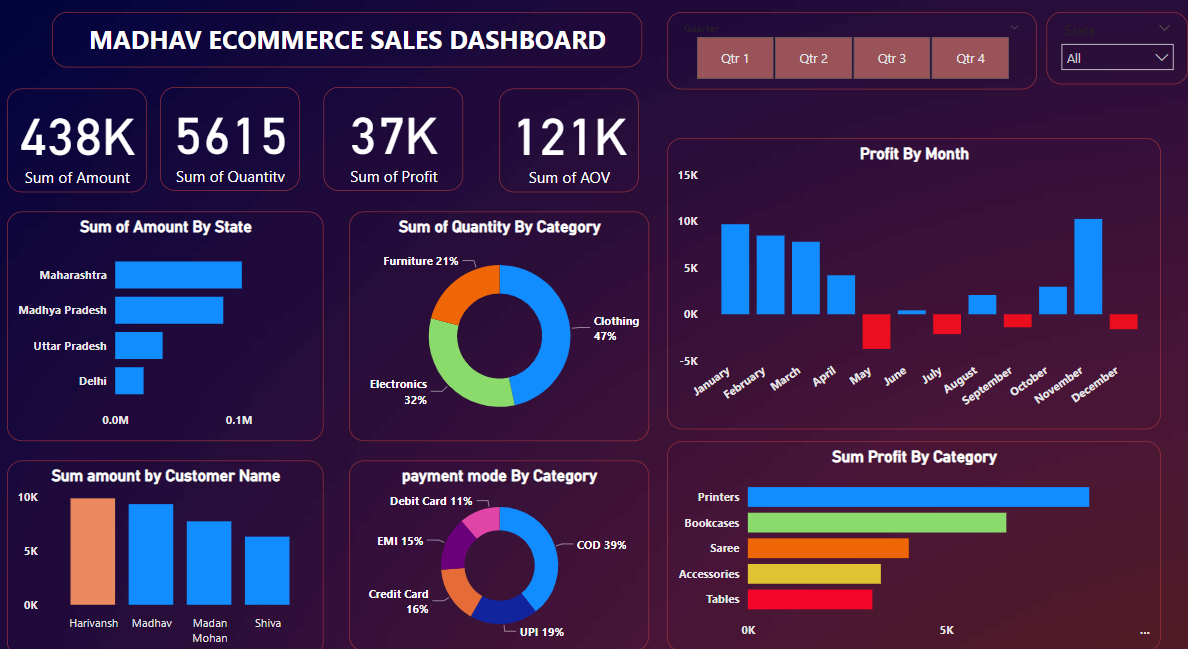

What the dashboard file says about the page in this screenshot:
{"tool":"powerbi","page":{"name":"Page 1","canvas":[1280,720],"ordinal":0},"visuals":[{"type":"columnChart","title":"Profit By Month","fields":{"Y":["Details.Profit"],"Category":["Orders.Order Date.Variation.Date Hierarchy.Month"]},"box":[728.3,153.3,523.3,308.3],"z":0},{"type":"barChart","title":"Sum Profit By Category","fields":{"Category":["Details.Sub-Category"],"Y":["Details.Profit"]},"box":[728.3,473.3,523.3,223.3],"z":1000},{"type":"donutChart","title":"Sum of Quantity By Category","fields":{"Y":["Details.Quantity"],"Category":["Details.Category"]},"box":[391,230.5,317.9,243.2],"z":2000},{"type":"donutChart","title":"payment mode By Category","fields":{"Y":["Details.Quantity"],"Category":["Details.PaymentMode"]},"box":[391,494.3,317.9,201.9],"z":3000},{"type":"card","fields":{"Values":["Details.Amount"]},"box":[28.6,100.1,147.8,109.7],"z":4000},{"type":"card","fields":{"Values":["Details.Quantity"]},"box":[190.7,98.5,147.8,109.7],"z":5000},{"type":"card","fields":{"Values":["Details.Profit"]},"box":[364,98.5,147.8,109.7],"z":6000},{"type":"card","fields":{"Values":["Details.AOV"]},"box":[549.9,100.1,147.8,109.7],"z":7000},{"type":"barChart","title":"Sum of Amount By State","fields":{"Category":["Orders.State"],"Y":["Details.Amount"]},"box":[28.6,230.5,335.4,243.2],"z":8000},{"type":"columnChart","title":"Sum amount by Customer Name","fields":{"Category":["Orders.CustomerName"],"Y":["Details.Amount"]},"box":[28.6,494.3,335.4,208.2],"z":9000},{"type":"textbox","box":[76.7,18.3,625,58.3],"z":10000},{"type":"slicer","fields":{"Values":["Orders.Order Date.Variation.Date Hierarchy.Quarter"]},"box":[728.3,18.3,391.7,81.7],"z":10001},{"type":"slicer","fields":{"Values":["Orders.State"]},"box":[1130,18.3,150,76.7],"z":10002}]}

Visuals, with their boxes in screenshot pixels (x1, y1, x2, y2), scaled from the page's 1280x720 canvas onto the 1188x649 screenshot:
"Profit By Month" columnChart: (676, 138, 1162, 416)
"Sum Profit By Category" barChart: (676, 427, 1162, 628)
"Sum of Quantity By Category" donutChart: (363, 208, 658, 427)
"payment mode By Category" donutChart: (363, 446, 658, 628)
card - Details.Amount: (27, 90, 164, 189)
card - Details.Quantity: (177, 89, 314, 188)
card - Details.Profit: (338, 89, 475, 188)
card - Details.AOV: (510, 90, 648, 189)
"Sum of Amount By State" barChart: (27, 208, 338, 427)
"Sum amount by Customer Name" columnChart: (27, 446, 338, 633)
textbox: (71, 16, 651, 69)
slicer - Orders.Order Date.Variation.Date Hierarchy.Quarter: (676, 16, 1040, 90)
slicer - Orders.State: (1049, 16, 1187, 86)
